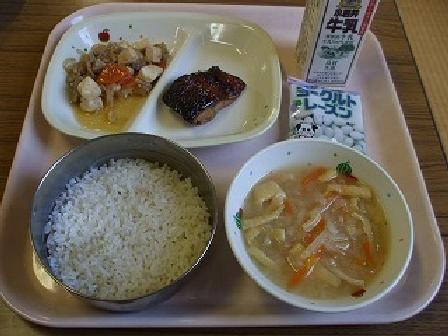Milk: (296, 0, 382, 82)
Rice: (34, 142, 221, 309)
Soups: (230, 146, 419, 307)
fried meat: (153, 63, 262, 135)
vegetable based cooked food: (65, 24, 167, 115)
